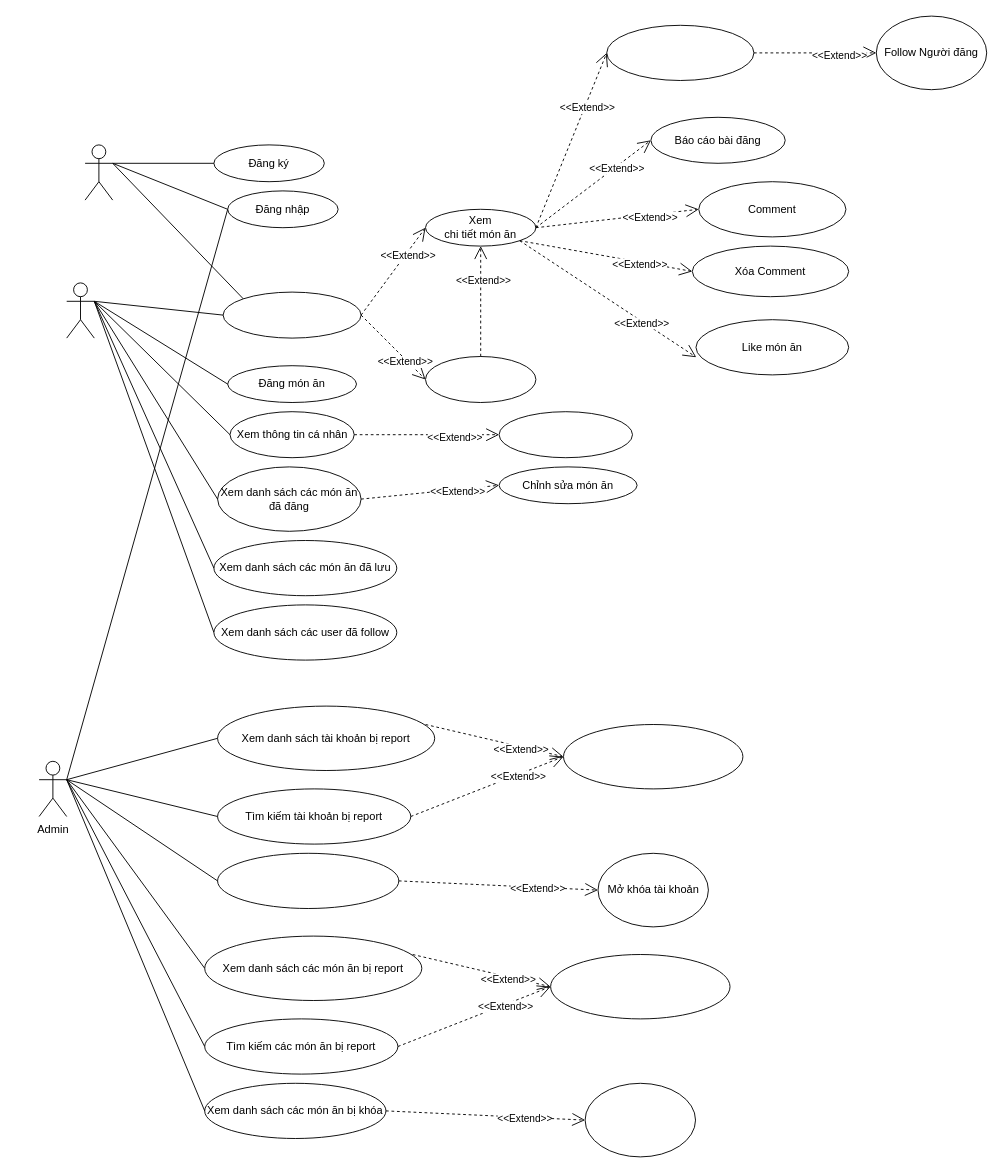
Image size: 1003x1173. Some labels were removed from this diagram. Here are the shapes that lost their labels. From the top down, the centre of each, then its label:
At [680,52]: "Xem trang cá nhân của người đăng".
At [98,172]: "Người dùng chưa đăng nhập".
At [80,310]: "Người dùng đã đăng nhập".
At [291,314]: "Xem danh sách các món ăn".
At [480,379]: "Tìm kiếm món ăn".
At [565,434]: "Chỉnh sửa thông tin cá nhân".
At [653,756]: "Khóa tài khoản".
At [308,880]: "Xem danh sách các tài khoản bị khóa".
At [640,986]: "Khóa món ăn".
At [640,1119]: "Mở khóa món ăn".
